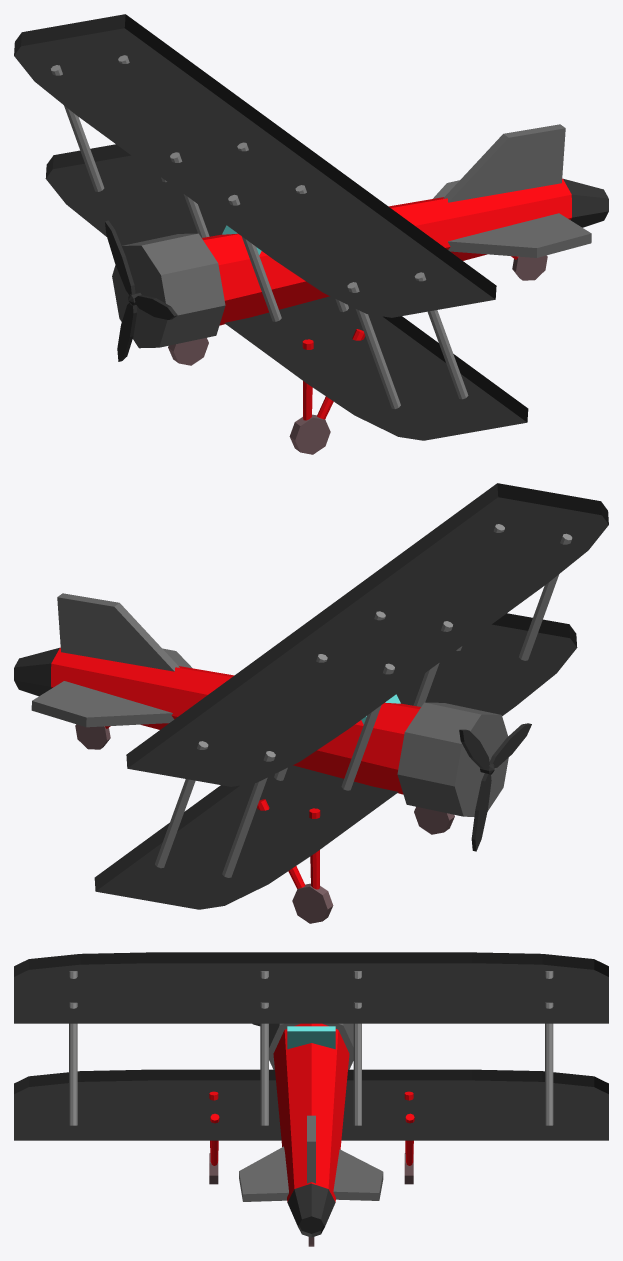
File: Cамолёт.fbx
The picture shows the model from 3 angles, top to bottom: view 1: azimuth 30°, elevation 25°; view 2: azimuth 150°, elevation 25°; view 3: azimuth 270°, elevation 25°; orthographic projection. The views are drawn at different scales.
Parts seen in each view (by area): view 1: Цилиндр.002, Цилиндр.009; view 2: Цилиндр.002, Цилиндр.009; view 3: Цилиндр.002.
Part boxes in pixels (x1,y1,x2,y2): Цилиндр.002: (14, 14, 608, 454); Цилиндр.009: (105, 220, 177, 361); Цилиндр.002: (14, 483, 608, 923); Цилиндр.009: (459, 723, 531, 851); Цилиндр.002: (14, 952, 608, 1246).
Size of the model in its own units: 451 by 229 by 610.
